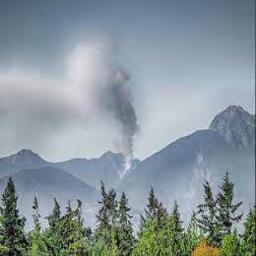Low smoke: (1, 32, 147, 185)
